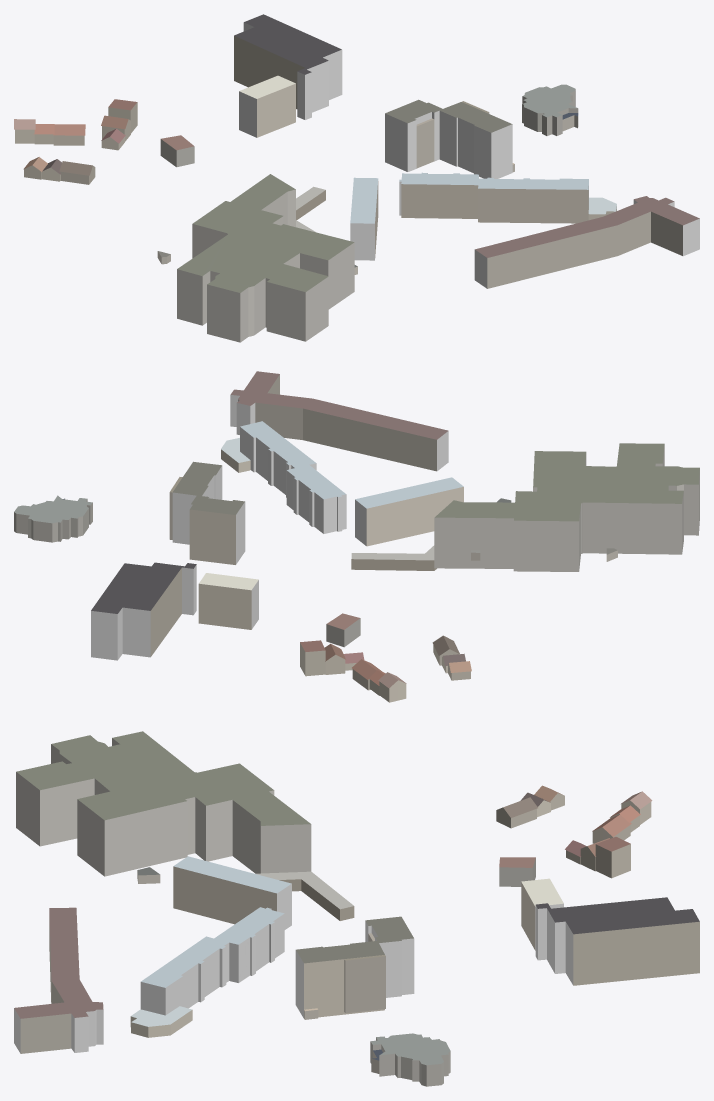
3 renders of one model, top to bottom at view 1: azimuth 30°, elevation 25°; view 2: azimuth 150°, elevation 25°; view 3: azimuth 270°, elevation 25°, orthographic. The views are drawn at different scales.
Parts seen in each view (by area): view 1: tuile; view 2: tuile; view 3: tuile.
Boxes of the visible parts, bbox=[...] form: tuile: bbox=[14, 14, 699, 342]; tuile: bbox=[14, 371, 699, 702]; tuile: bbox=[14, 731, 699, 1086].
Bounding box in the file's own units: 259 × 27.23 × 259.
